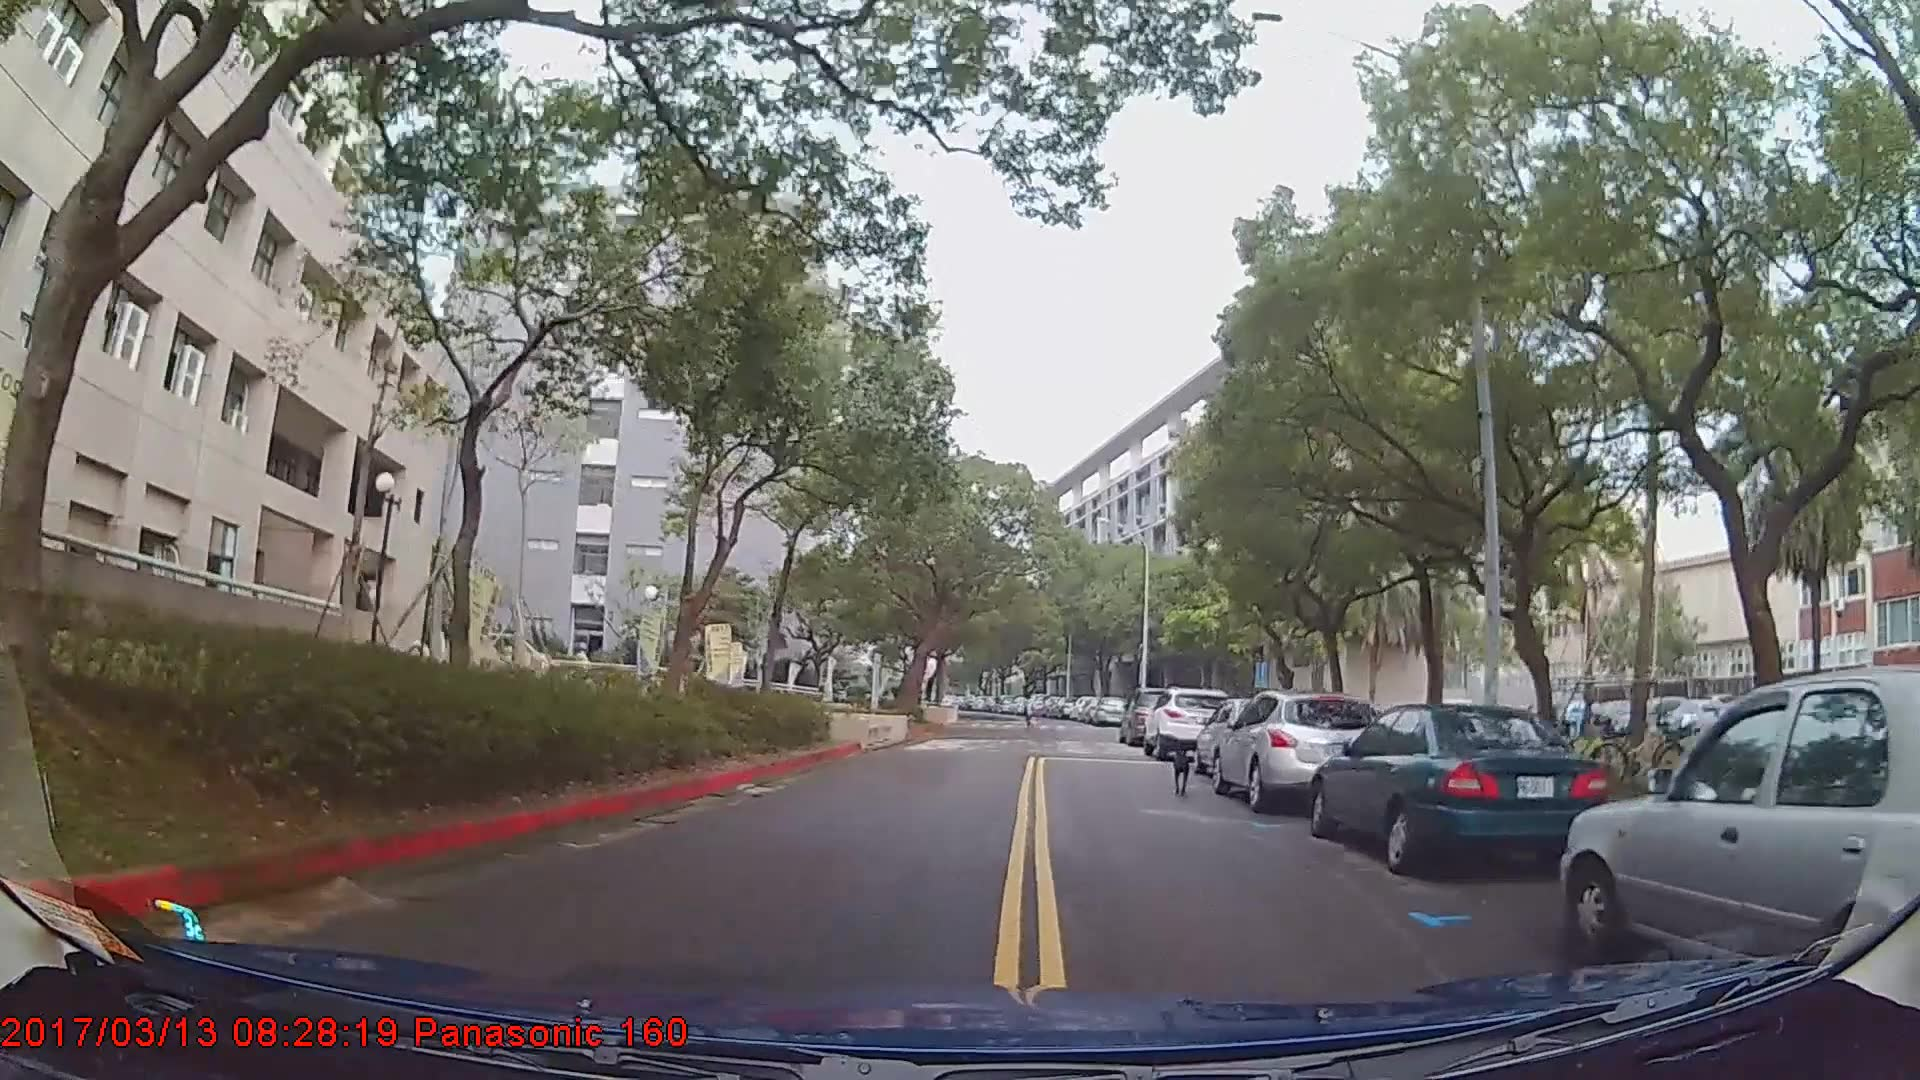pedestrian: (1019, 691, 1039, 731)
vehicle: (1560, 662, 1920, 992), (1308, 705, 1615, 880), (1209, 691, 1386, 820), (1143, 686, 1232, 758), (1118, 685, 1186, 746), (1090, 691, 1128, 724)
